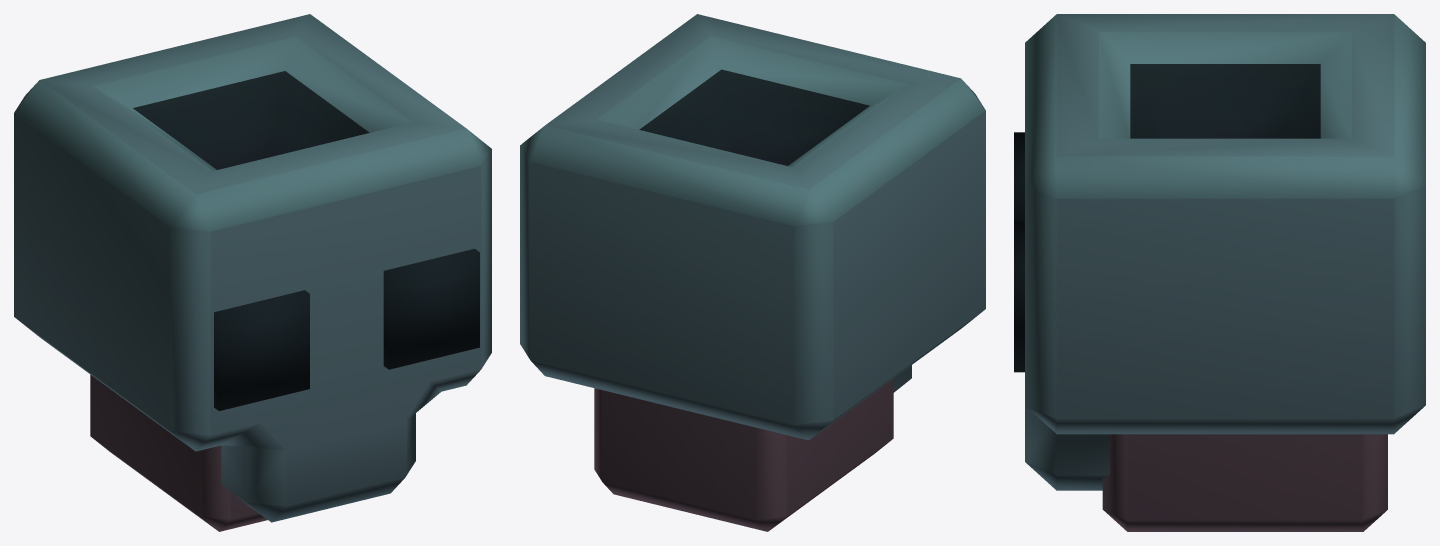
The model's file is torch_small.fbx.
3 views of the same model, side by side, from view 1: azimuth 30°, elevation 25°; view 2: azimuth 150°, elevation 25°; view 3: azimuth 270°, elevation 25° (orthographic). The views are drawn at different scales.
Parts seen in each view (by area): view 1: torch_small; view 2: torch_small; view 3: torch_small.
Part boxes in pixels (bbox=[...]): torch_small: bbox=[14, 14, 491, 531]; torch_small: bbox=[520, 14, 985, 531]; torch_small: bbox=[1014, 14, 1425, 531].
Bounding box in the file's own units: 66.99 × 74.68 × 68.83.
